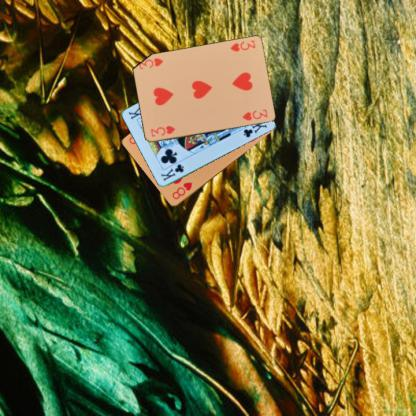3h: (228, 38, 257, 53), (148, 123, 176, 138)
8h: (169, 180, 194, 200)
Kc: (158, 161, 185, 182)
